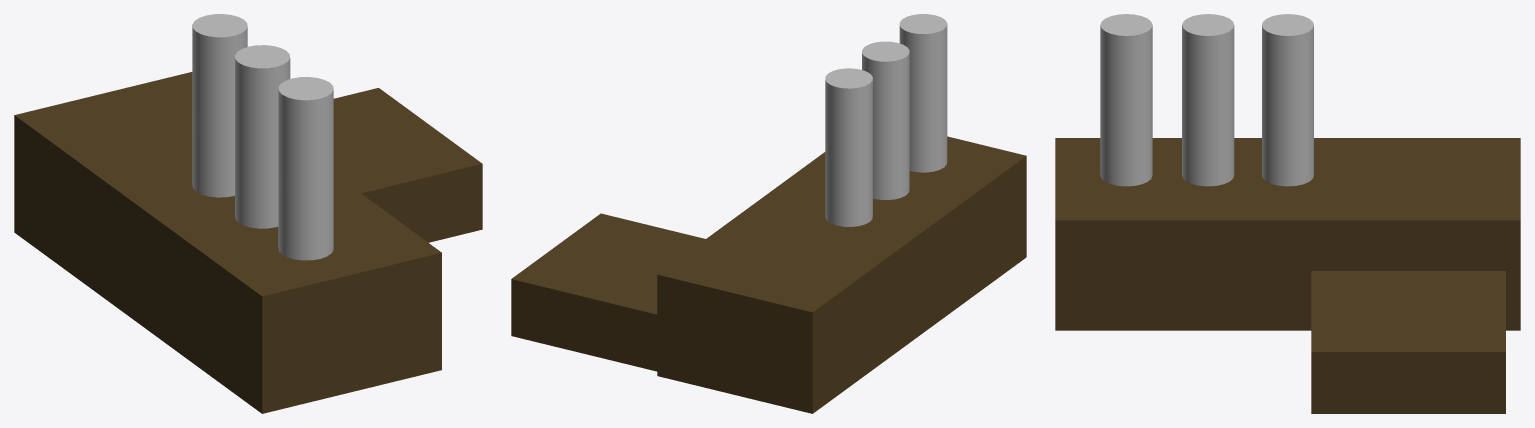
File: factory.fbx
The picture shows the model from 3 angles, left to right: view 1: azimuth 30°, elevation 25°; view 2: azimuth 150°, elevation 25°; view 3: azimuth 270°, elevation 25°; orthographic projection. The views are drawn at different scales.
Parts seen in each view (by area): view 1: pCube3; view 2: pCube3; view 3: pCube3.
Part boxes in pixels (x1=…): pCube3: x1=14, y1=14, x2=482, y2=413; pCube3: x1=511, y1=14, x2=1026, y2=413; pCube3: x1=1055, y1=14, x2=1520, y2=413.
Size of the model in its own units: 1.98 by 1.49 by 2.39.
